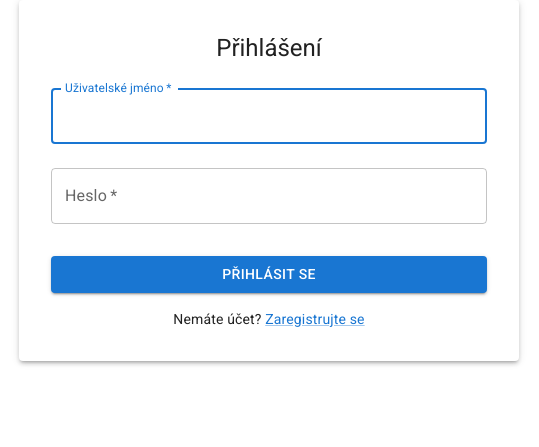
LoginForm › zobrazí chybu při odeslání prázdného formuláře
Click the button "Přihlásit se".
click(269, 275)  # box x1=51 y1=256 x2=487 y2=293
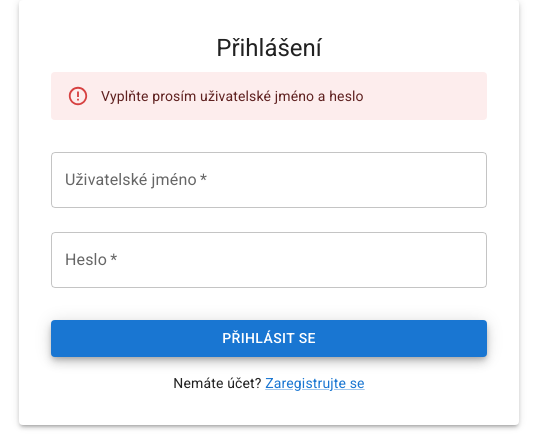
Now the text "Vyplňte prosím uživatelské jméno a heslo" is shown, box x1=101 y1=88 x2=364 y2=104
